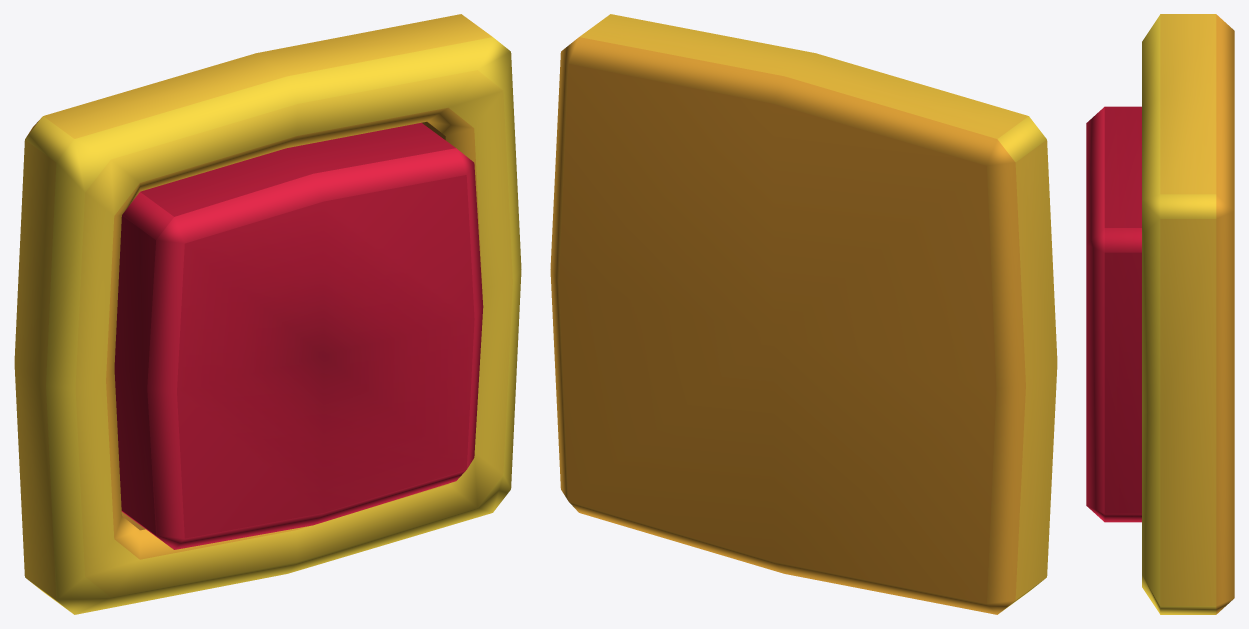
Rendered from switch_wall_red.fbx.
3 renders of one model, left to right at view 1: azimuth 30°, elevation 25°; view 2: azimuth 150°, elevation 25°; view 3: azimuth 270°, elevation 25°, orthographic. The views are drawn at different scales.
Visible parts, largest first — view 1: switch_wall_red_plate, switch_wall_red; view 2: switch_wall_red; view 3: switch_wall_red, switch_wall_red_plate.
Boxes of the visible parts, box(x1,y1,x2,y2) form: switch_wall_red_plate: box(114, 122, 483, 549); switch_wall_red: box(14, 14, 521, 614); switch_wall_red: box(550, 14, 1057, 614); switch_wall_red: box(1142, 14, 1234, 614); switch_wall_red_plate: box(1086, 106, 1141, 522).
Size of the model in its own units: 131 by 131 by 40.
